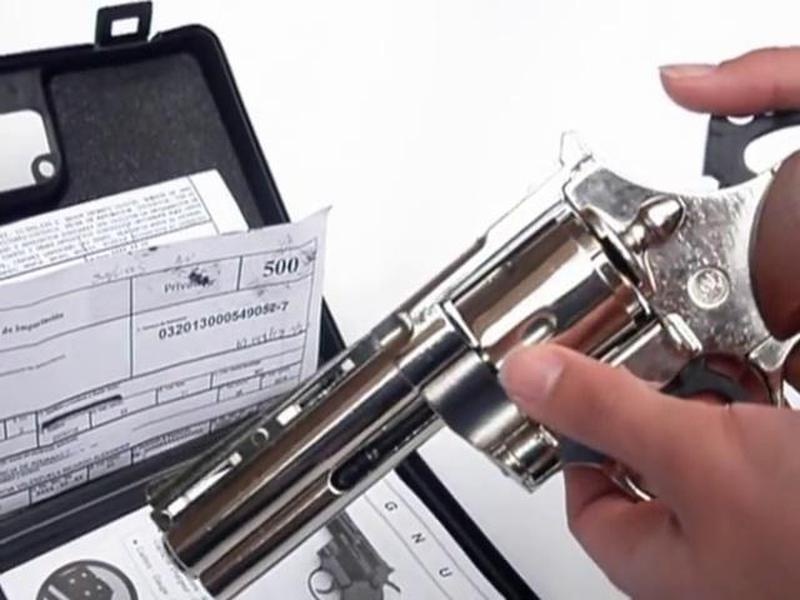Revolver: (100, 133, 800, 572)
